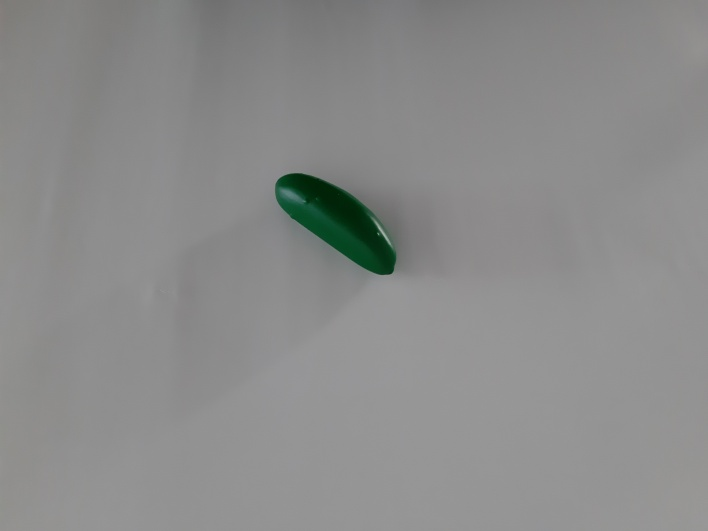cucumber: (251, 156, 423, 298)
